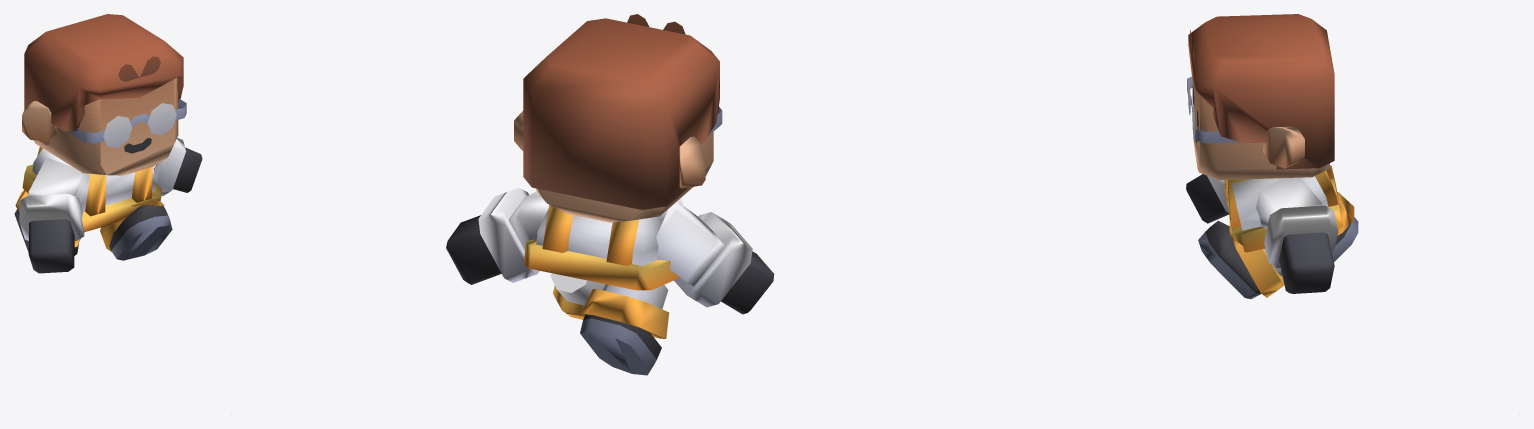
File: builder_sprint_4.glb
3 views of the same model, side by side, from view 1: azimuth 30°, elevation 25°; view 2: azimuth 150°, elevation 25°; view 3: azimuth 270°, elevation 25° (orthographic). The views are drawn at different scales.
Visible parts, largest first — view 1: builder-sprint-4; view 2: builder-sprint-4; view 3: builder-sprint-4.
Boxes of the visible parts, x1=… form: builder-sprint-4: x1=14, y1=14, x2=202, y2=273; builder-sprint-4: x1=446, y1=14, x2=774, y2=375; builder-sprint-4: x1=1186, y1=14, x2=1358, y2=299.
Bounding box in the file's own units: 1.2 × 0.7458 × 1.2.
Materials: 1 (1 with a texture image).
